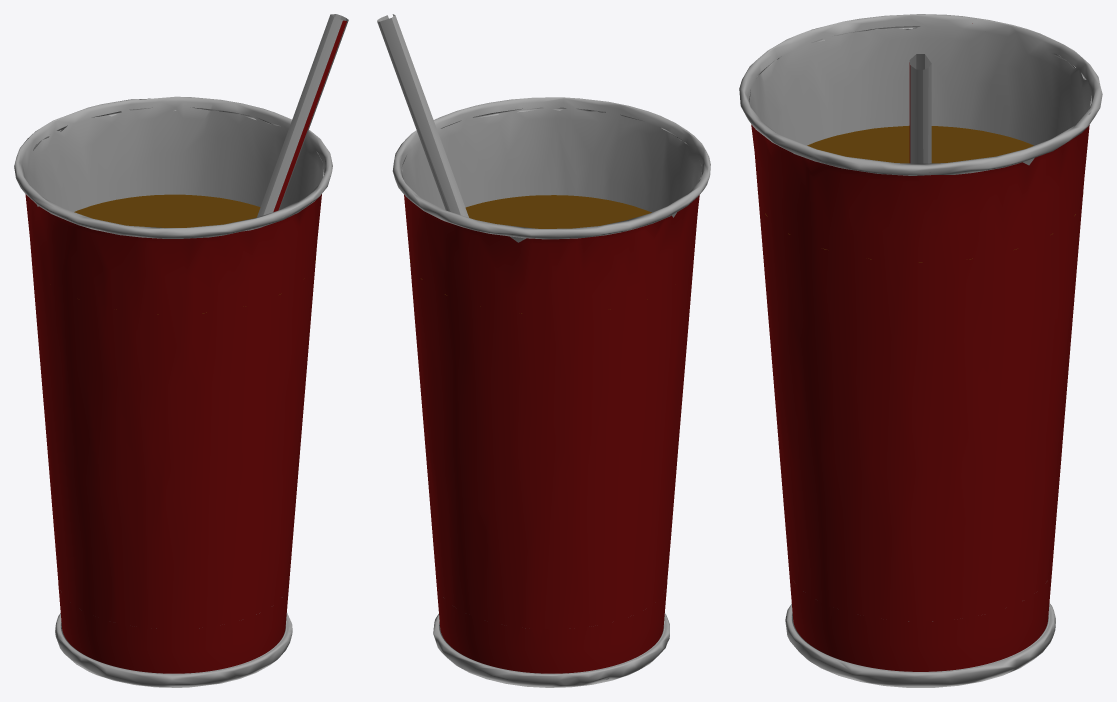
The model's file is Drink.obj.
3 renders of one model, left to right at view 1: azimuth 30°, elevation 25°; view 2: azimuth 150°, elevation 25°; view 3: azimuth 270°, elevation 25°, orthographic. The views are drawn at different scales.
Parts seen in each view (by area): view 1: polySurface21; view 2: polySurface21; view 3: polySurface21.
Part boxes in pixels (x1,y1,x2,y2): polySurface21: (14, 14, 348, 687); polySurface21: (377, 14, 710, 687); polySurface21: (739, 14, 1102, 687).
Size of the model in its own units: 19.23 by 34.52 by 17.02.
